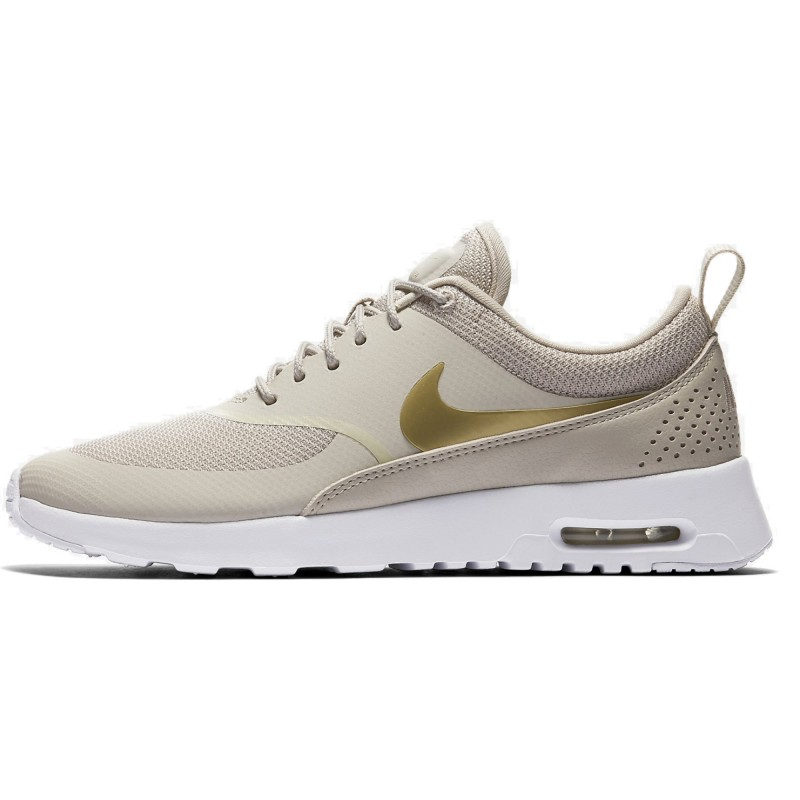nike: (397, 358, 651, 453)
